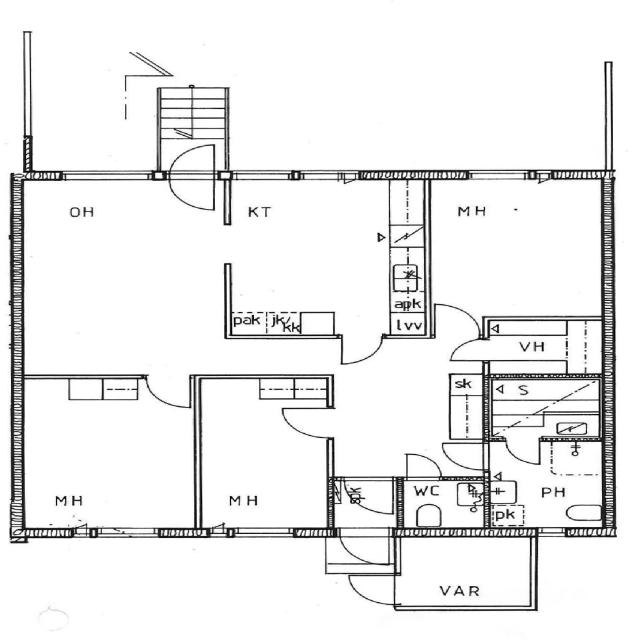door: (196, 376, 336, 528), (163, 141, 223, 215), (330, 526, 398, 567), (340, 476, 400, 519), (340, 570, 401, 607), (275, 404, 337, 439), (428, 302, 484, 338), (143, 374, 197, 409), (438, 440, 497, 472), (336, 332, 387, 366), (399, 451, 446, 481), (443, 336, 492, 364), (504, 438, 548, 467)
window: (222, 166, 344, 184), (53, 168, 157, 186), (86, 524, 166, 542), (462, 167, 538, 184), (290, 167, 359, 185), (224, 525, 301, 541), (534, 525, 572, 539)
zone: (223, 175, 429, 339), (13, 373, 200, 532), (424, 176, 610, 319), (196, 373, 332, 534), (483, 440, 611, 532), (390, 535, 536, 612), (484, 374, 606, 438), (484, 317, 606, 377), (398, 477, 489, 530)
